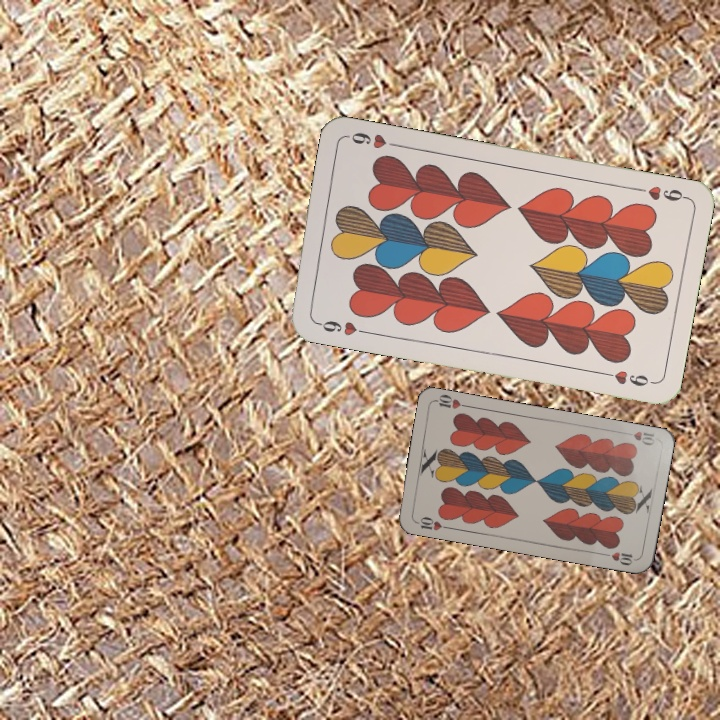H10: (411, 512, 452, 533), (618, 427, 657, 448)
H9: (630, 181, 689, 204), (311, 316, 370, 339)
